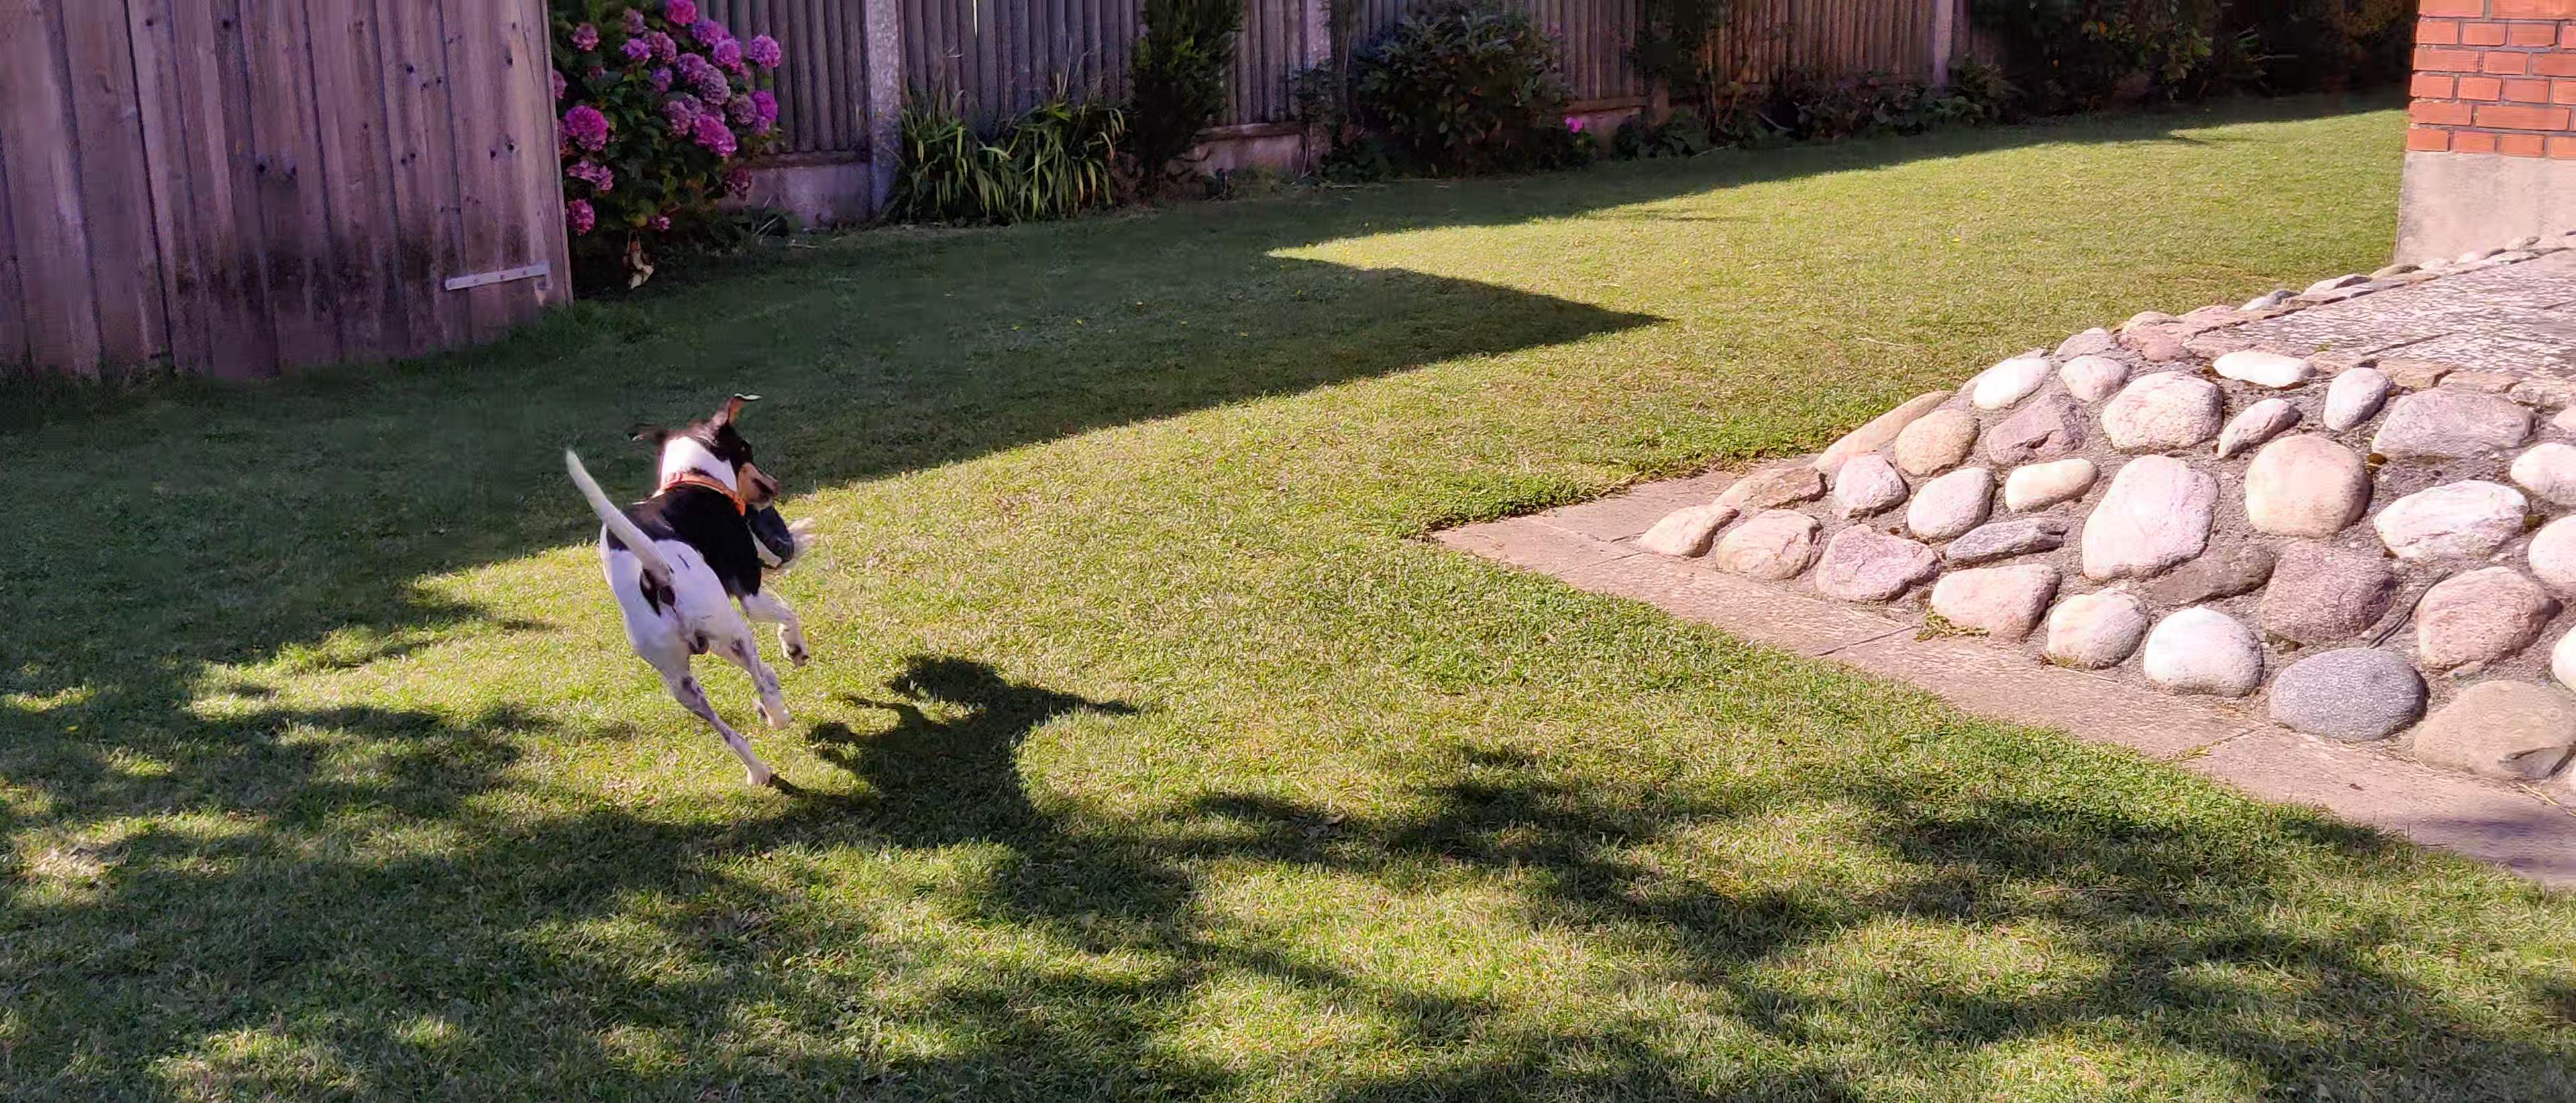Dog: (549, 388, 826, 792)
